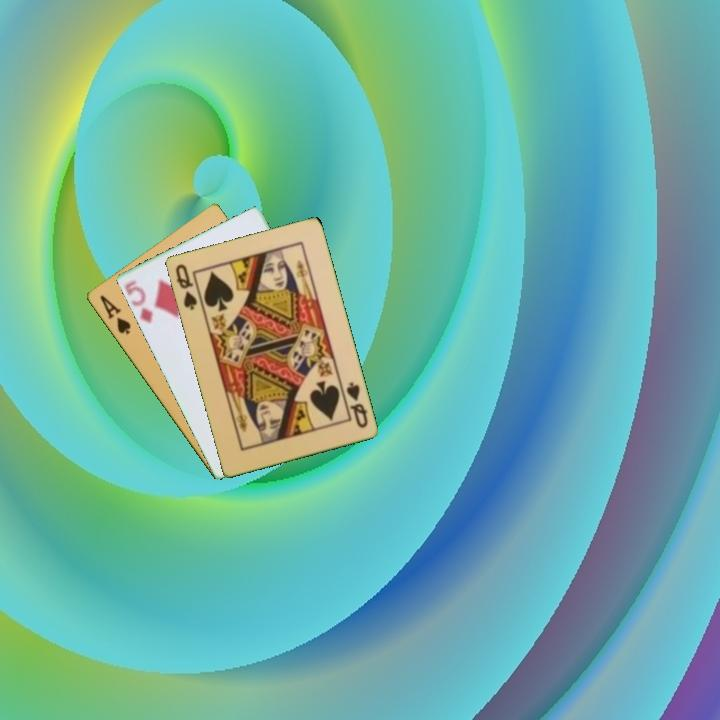5d: (121, 277, 155, 326)
As: (96, 291, 134, 337)
Qs: (338, 378, 370, 431), (171, 260, 200, 313)
